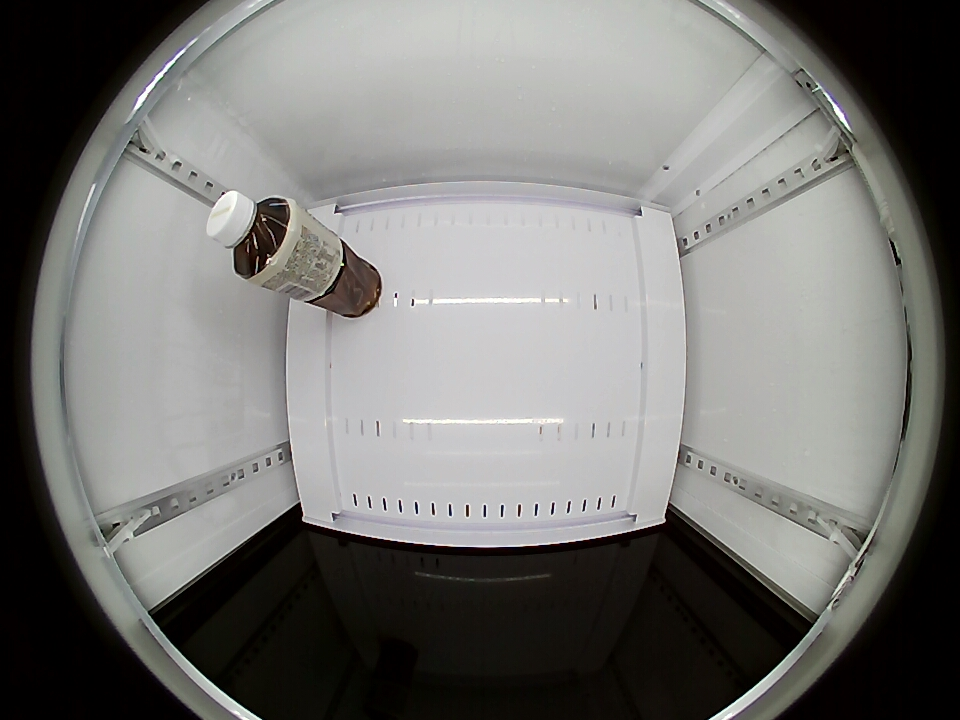wulongcha: (206, 190, 297, 281)
